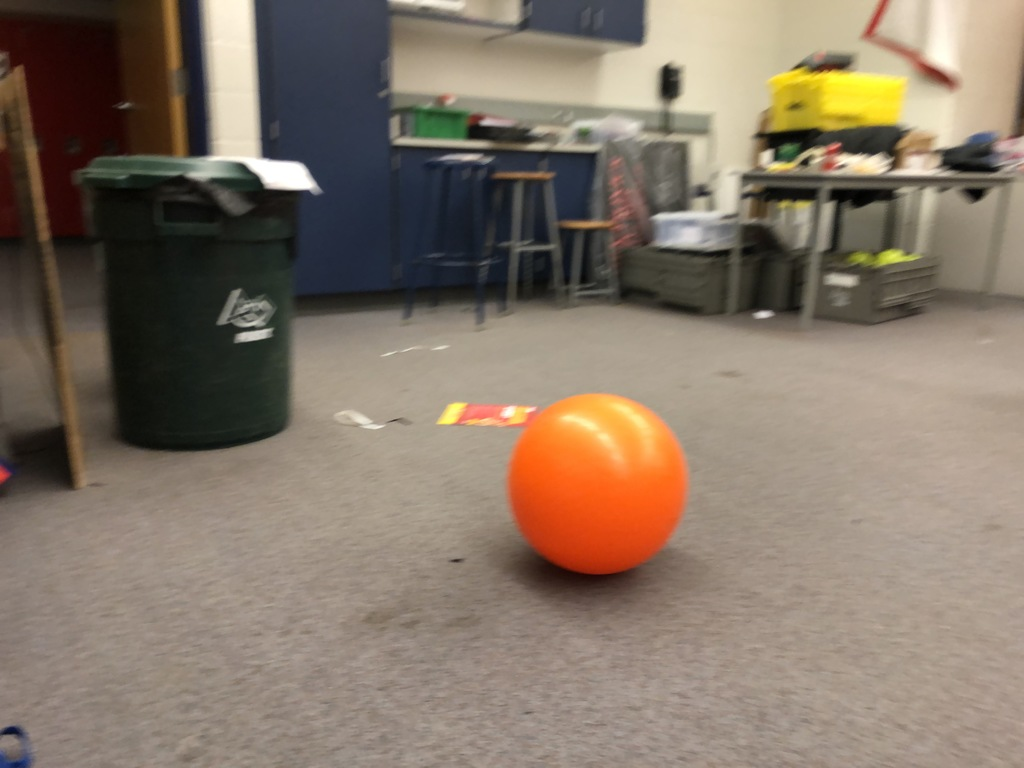cargo: (492, 383, 695, 583)
